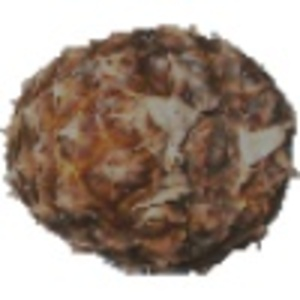abacaxi: (5, 11, 295, 264)
